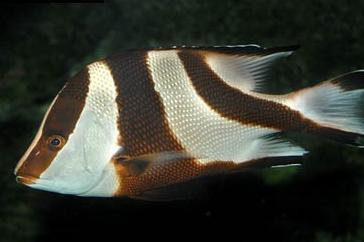Lutjanidae -Snappers-: (10, 39, 364, 208)
